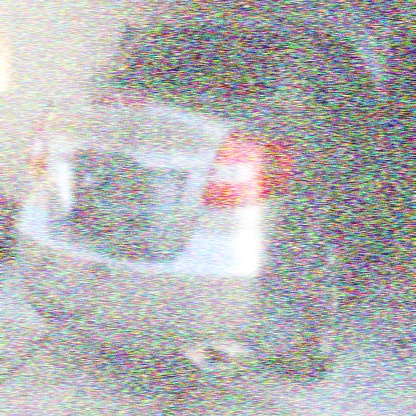Vehicle: (15, 17, 399, 385)
